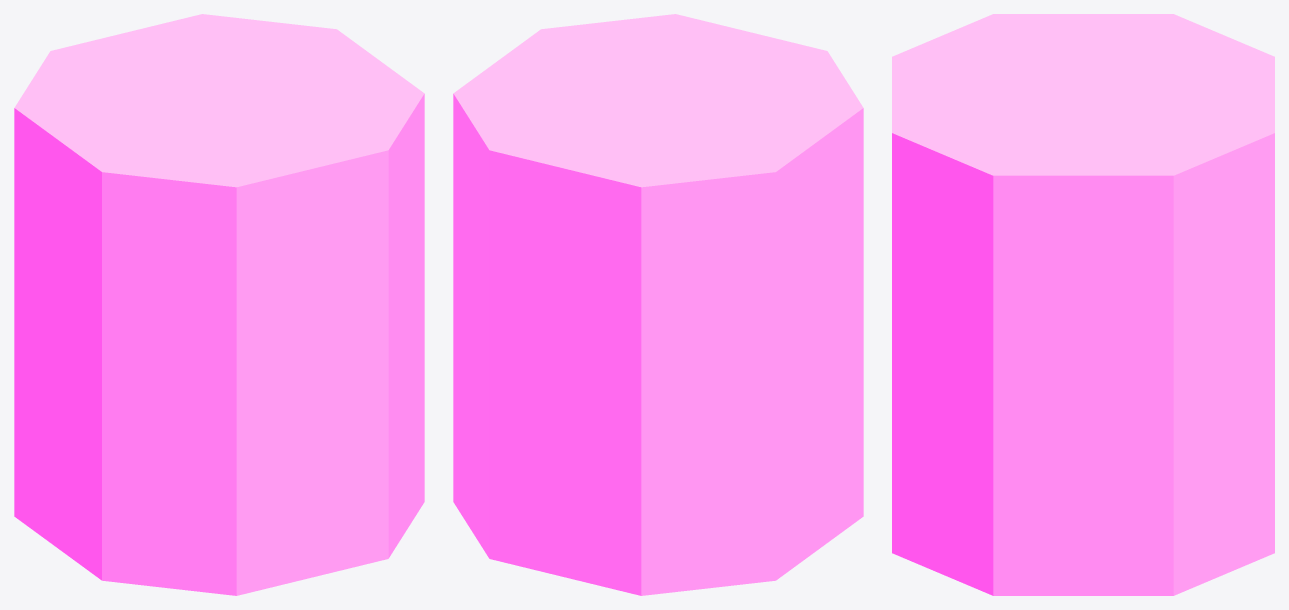
Rendered from Hollow.fbx.
3 renders of one model, left to right at view 1: azimuth 30°, elevation 25°; view 2: azimuth 150°, elevation 25°; view 3: azimuth 270°, elevation 25°, orthographic. The views are drawn at different scales.
Visible parts, largest first — view 1: Cube.144; view 2: Cube.144; view 3: Cube.144.
Boxes of the visible parts, box(x1,y1,x2,y2) form: Cube.144: box(14, 14, 424, 595); Cube.144: box(453, 14, 863, 595); Cube.144: box(892, 14, 1274, 595).
Size of the model in its own units: 221 by 267 by 221.
